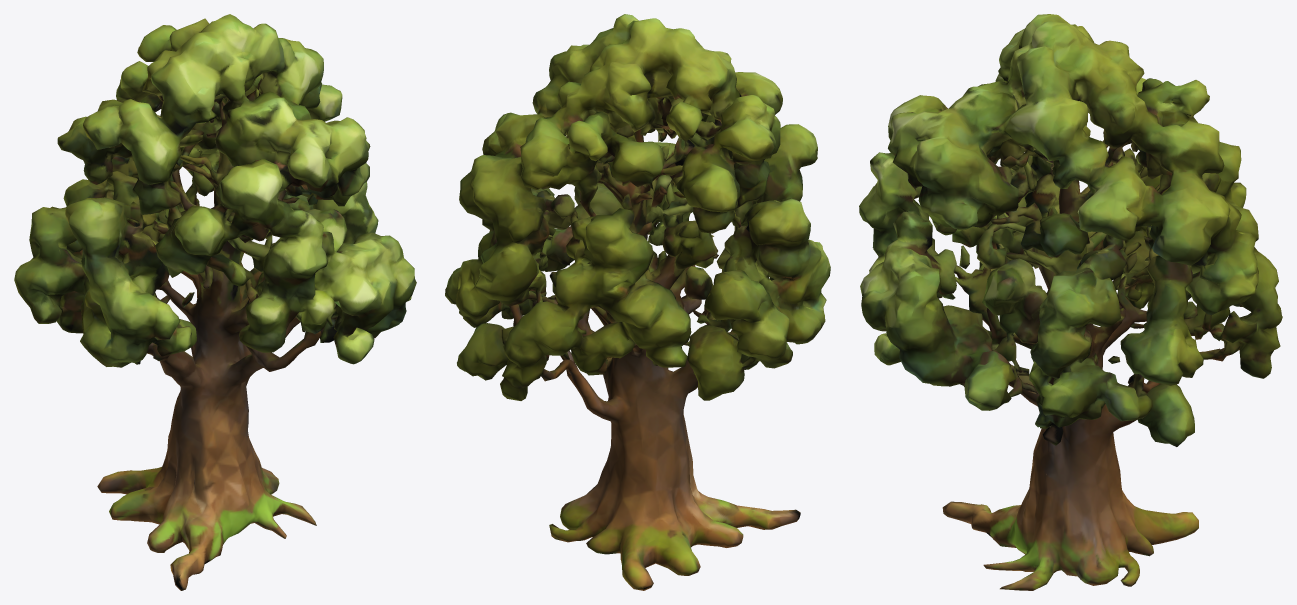
The model's file is AI_ThickOakTree.fbx.
3 renders of one model, left to right at view 1: azimuth 30°, elevation 25°; view 2: azimuth 150°, elevation 25°; view 3: azimuth 270°, elevation 25°, orthographic. The views are drawn at different scales.
Visible parts, largest first — view 1: Mesh_0; view 2: Mesh_0; view 3: Mesh_0.
Boxes of the visible parts, box(x1,y1,x2,y2) form: Mesh_0: box(14, 14, 416, 590); Mesh_0: box(445, 14, 830, 590); Mesh_0: box(859, 14, 1282, 590).
Size of the model in its own units: 133 by 200 by 141.
1 material, 1 textured.
